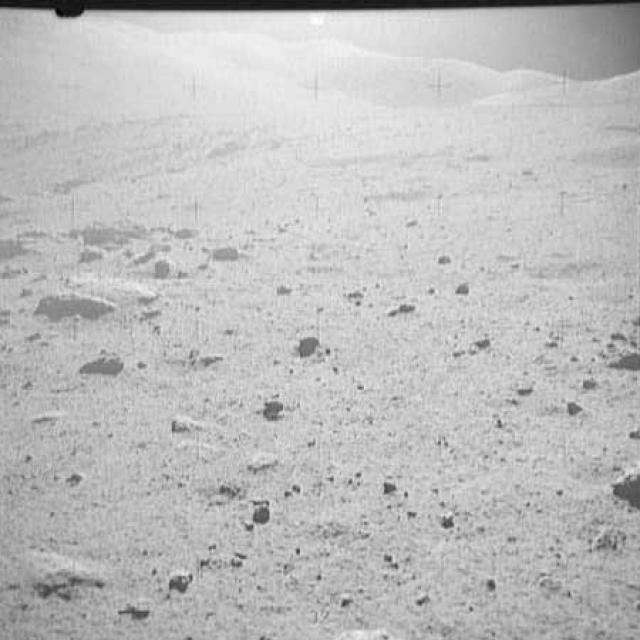rock: (36, 270, 159, 316), (610, 451, 639, 496), (164, 410, 212, 436), (608, 334, 638, 373), (254, 392, 286, 420), (209, 242, 243, 264), (295, 332, 324, 352), (152, 254, 174, 279)
